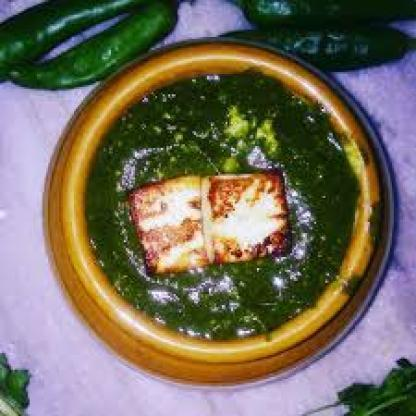palak_paneer: (84, 69, 361, 340)
